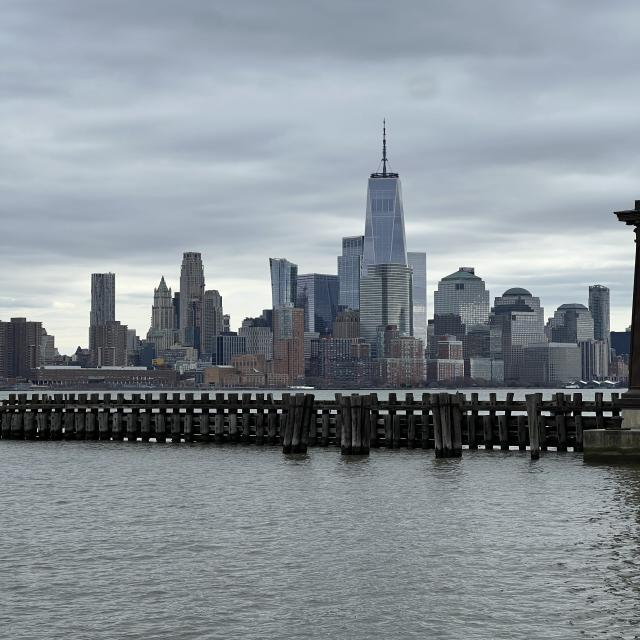WTC: (363, 118, 407, 260)
